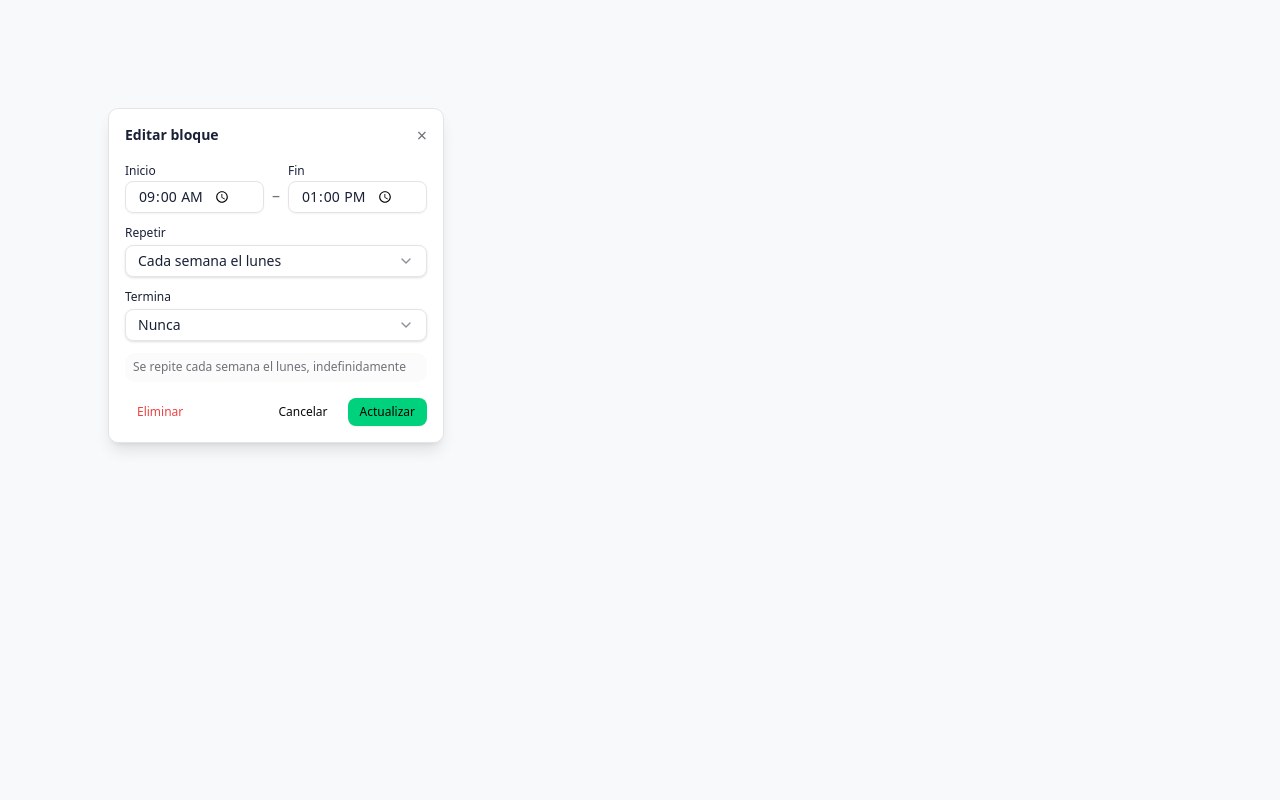
Test case: BloquePopover — recurrent delete scope dialog (bug7 round-5 #1) › RED 1: recurrent block → delete click shows scope dialog with 3 options
The width and height of the screenshot is (1280, 800).
Click the delete button in the popover
What coordinates should you click on to do the following:
click the button with test id "btn-delete-block"
I would click on:
 (160, 412)
Its box is [125, 398, 195, 426].
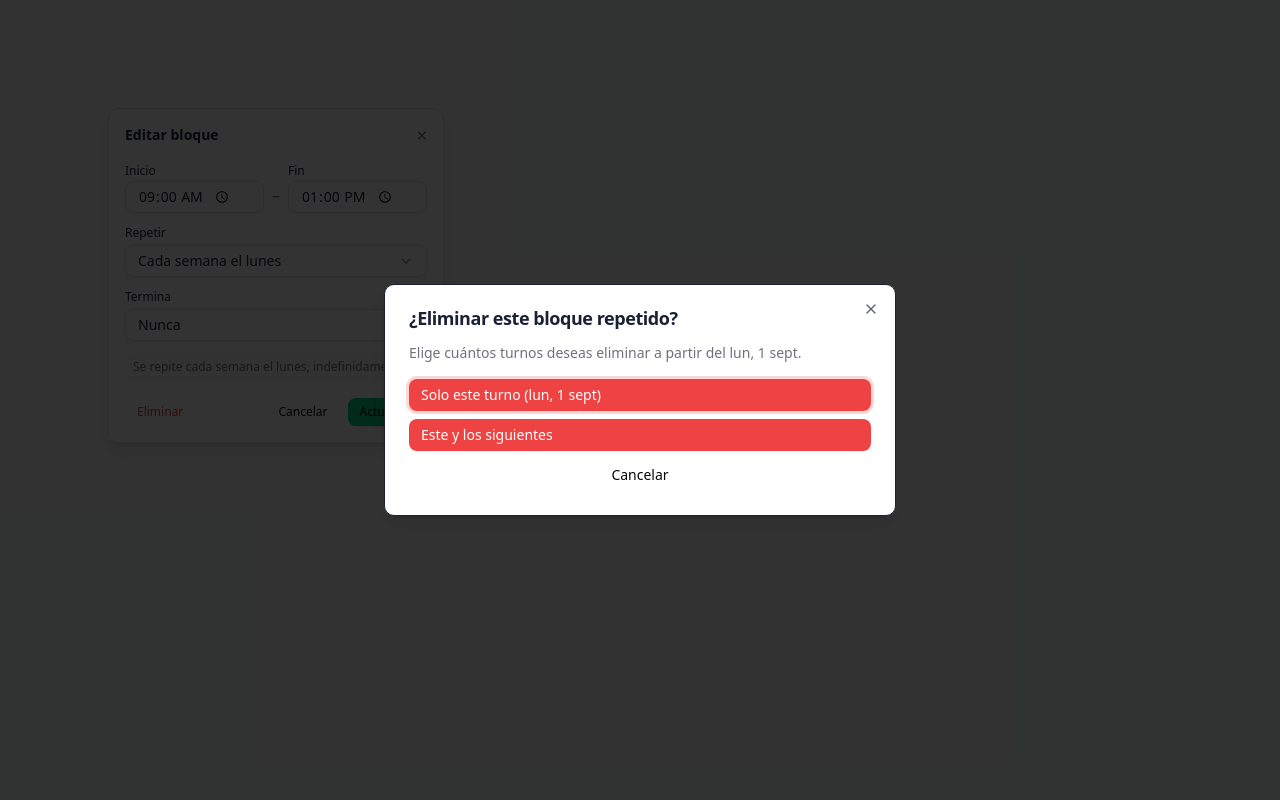
Expected: the dialog with test id "dialog-delete-scope" is shown, [384, 284, 896, 516]
Expected: the button with test id "btn-delete-occurrence" is shown, [409, 379, 871, 411]
Expected: the button with test id "btn-delete-this-and-future" is shown, [409, 419, 871, 451]
